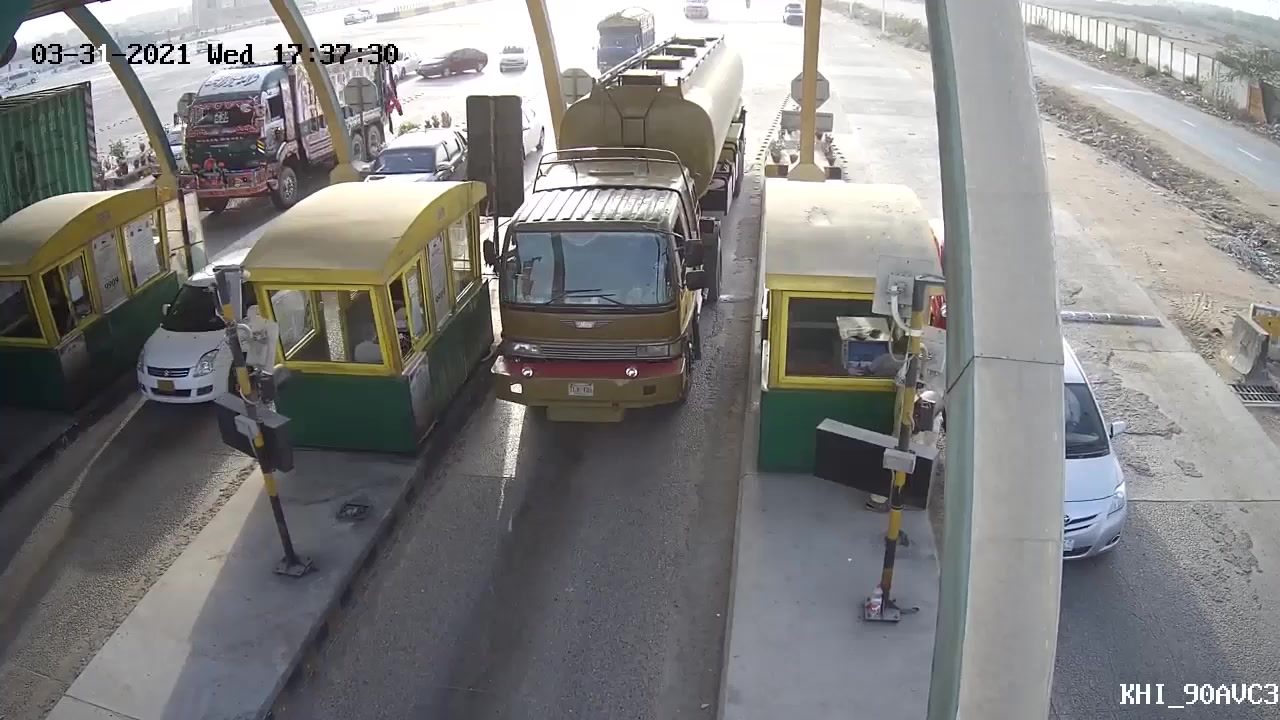F6: (483, 31, 754, 431)
